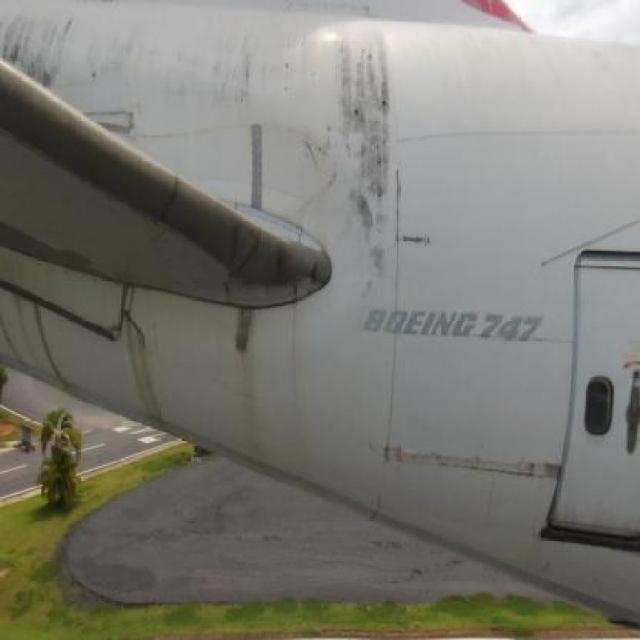Rust: (1, 3, 327, 117), (329, 26, 393, 279), (206, 203, 314, 302), (0, 278, 85, 390), (116, 298, 181, 424), (229, 301, 269, 465), (280, 292, 315, 425)
Scartch: (379, 434, 564, 514), (394, 164, 446, 259), (297, 120, 355, 203)
